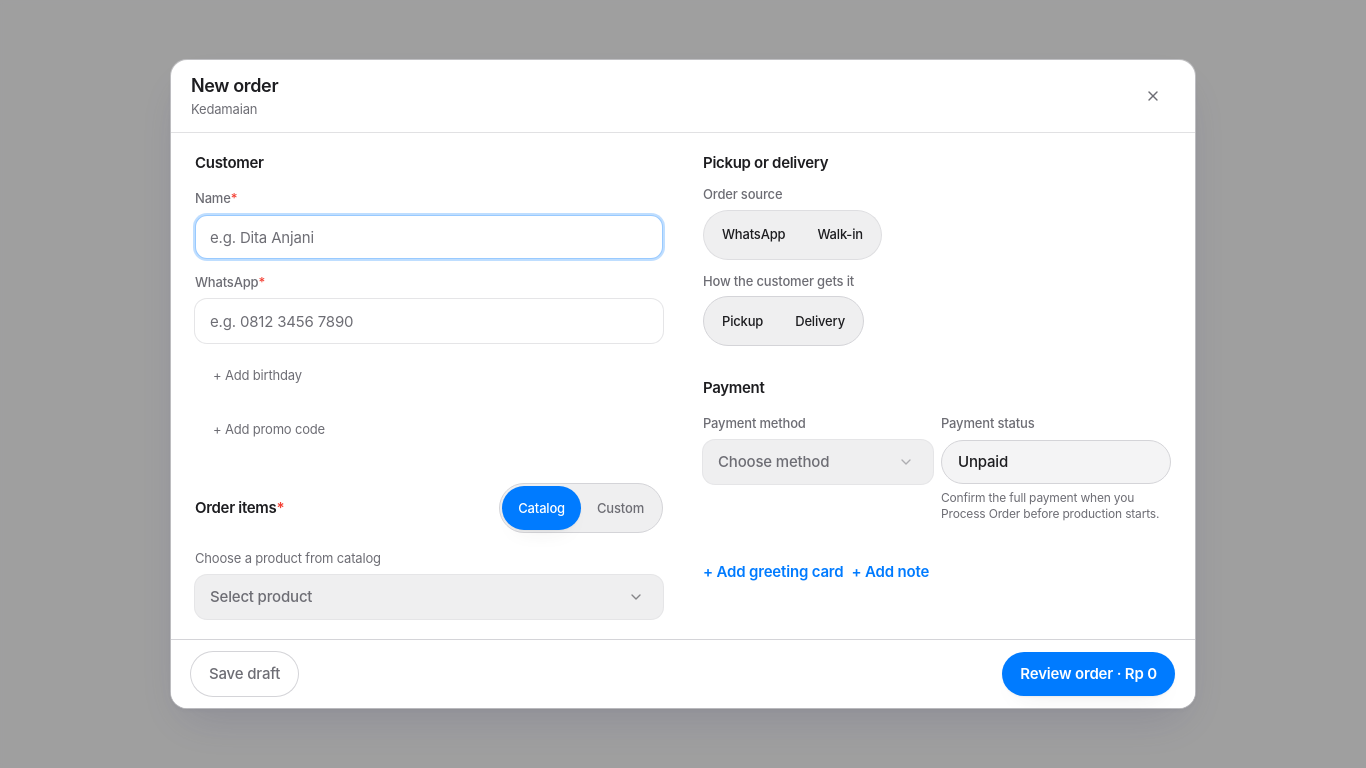
Scenario: New Order form › a walk-in pickup asks for no date, time or greeting card
The image size is (1366, 768).
Click the button "Walk-in" at (840, 235), box [801,213,879,257]
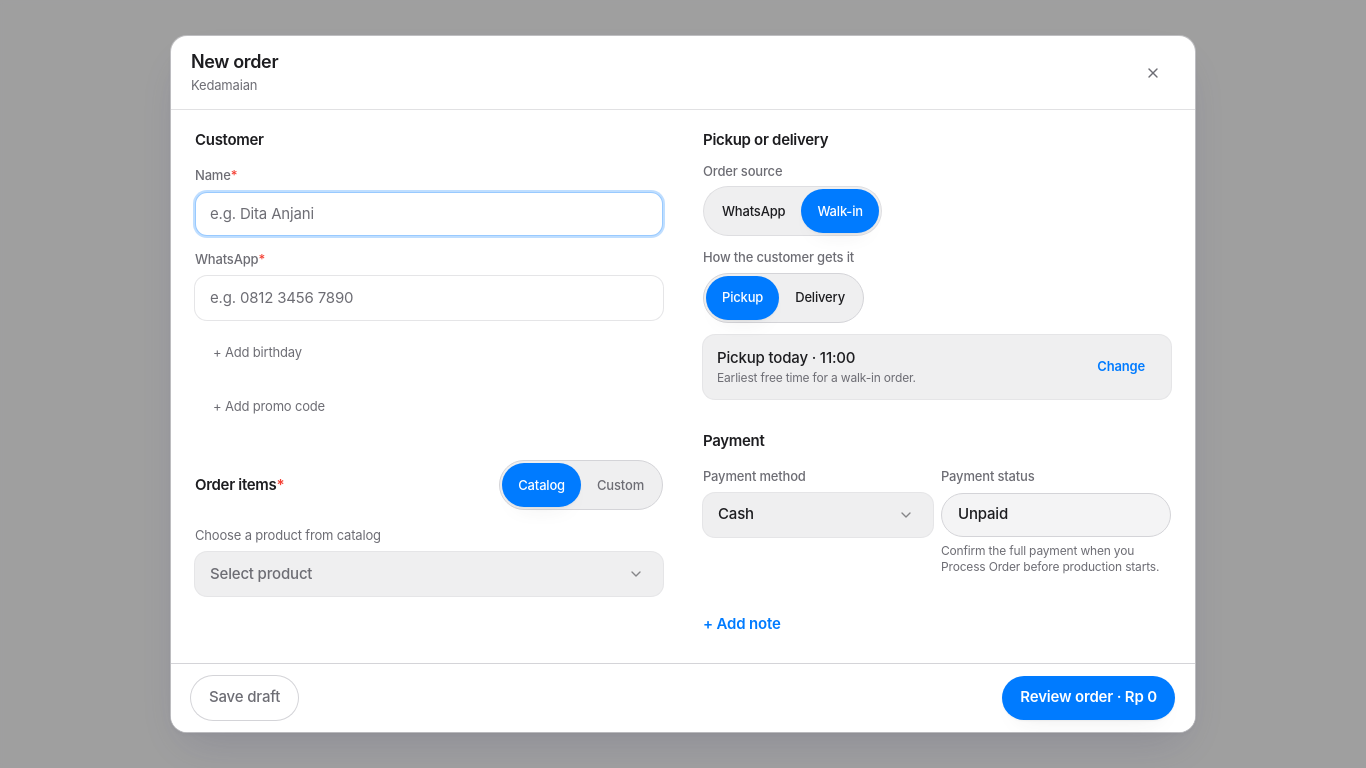
Now the text "Pickup today · 11:00" is shown, box [717,348,855,367]
Now the button "+ Add greeting card" is gone
Note: Staff can still change the time.
Click the button "Change" at (1121, 367), box [1085,345,1157,389]
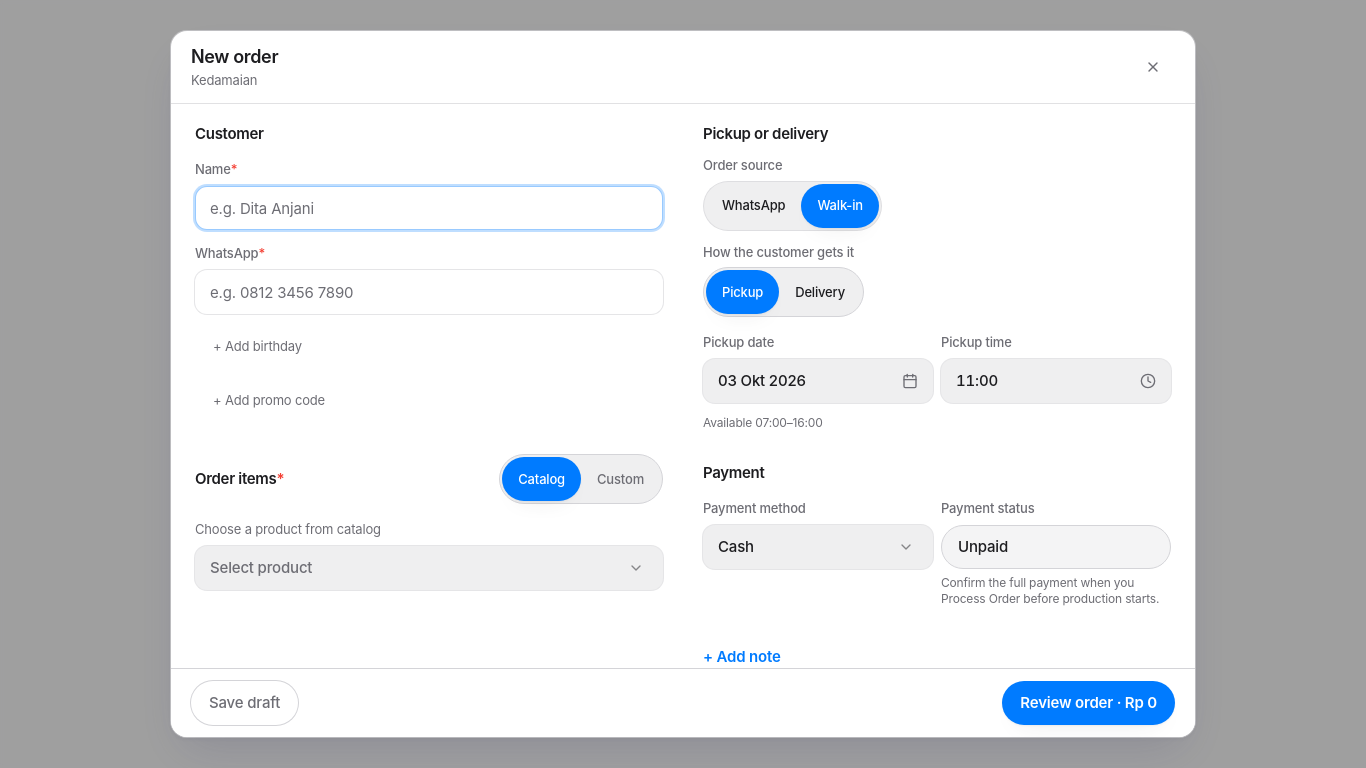
Now the button "03 Okt 2026" is shown, box [703,359,933,403]
